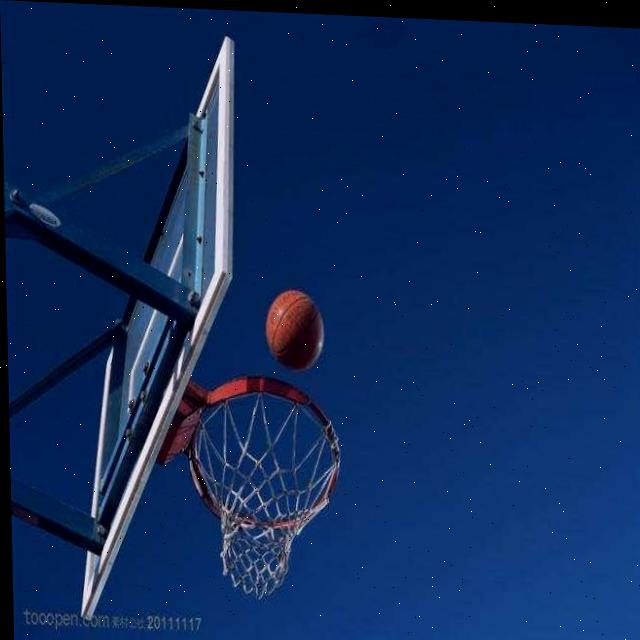basketball: (266, 290, 324, 373)
hoop: (188, 374, 344, 601)
